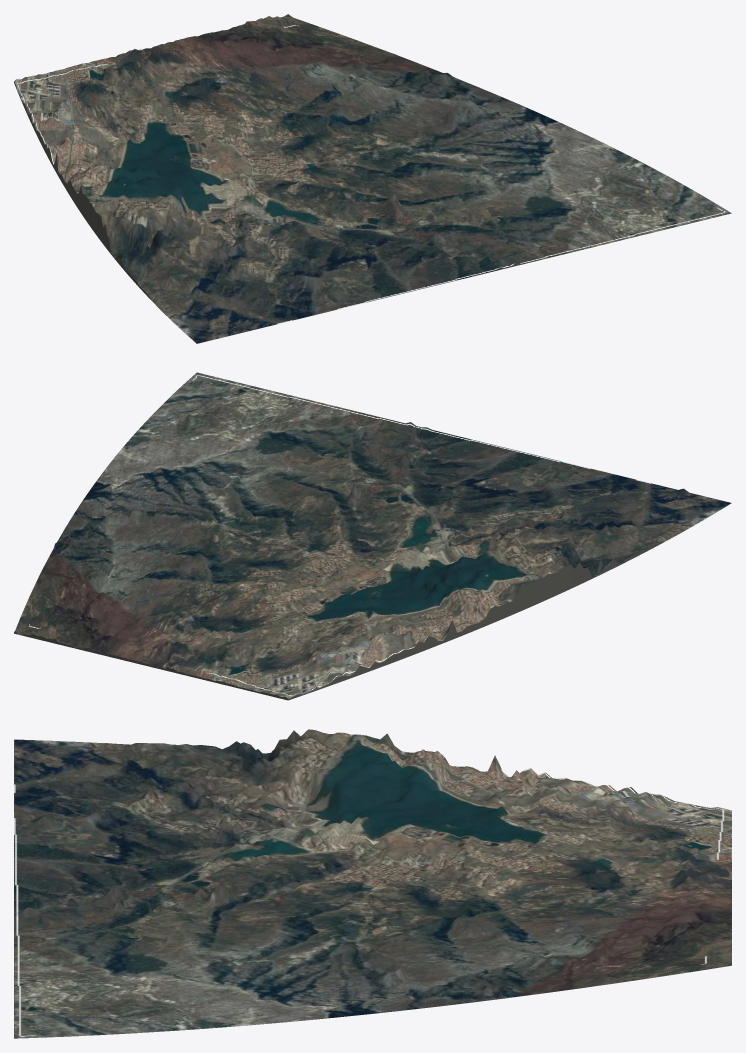
File: HuaGuoShan.FBX
3 renders of one model, top to bottom at view 1: azimuth 30°, elevation 25°; view 2: azimuth 150°, elevation 25°; view 3: azimuth 270°, elevation 25°, orthographic. The views are drawn at different scales.
Parts seen in each view (by area): view 1: HuaGuoShan; view 2: HuaGuoShan; view 3: HuaGuoShan.
Part boxes in pixels (box(x1,y1,x2,y2)): HuaGuoShan: box(14, 14, 731, 343); HuaGuoShan: box(14, 372, 731, 700); HuaGuoShan: box(14, 729, 731, 1038).
Bounding box in the file's own units: 5487352 × 276719 × 5566116.
Materials: 1 (1 with a texture image).
